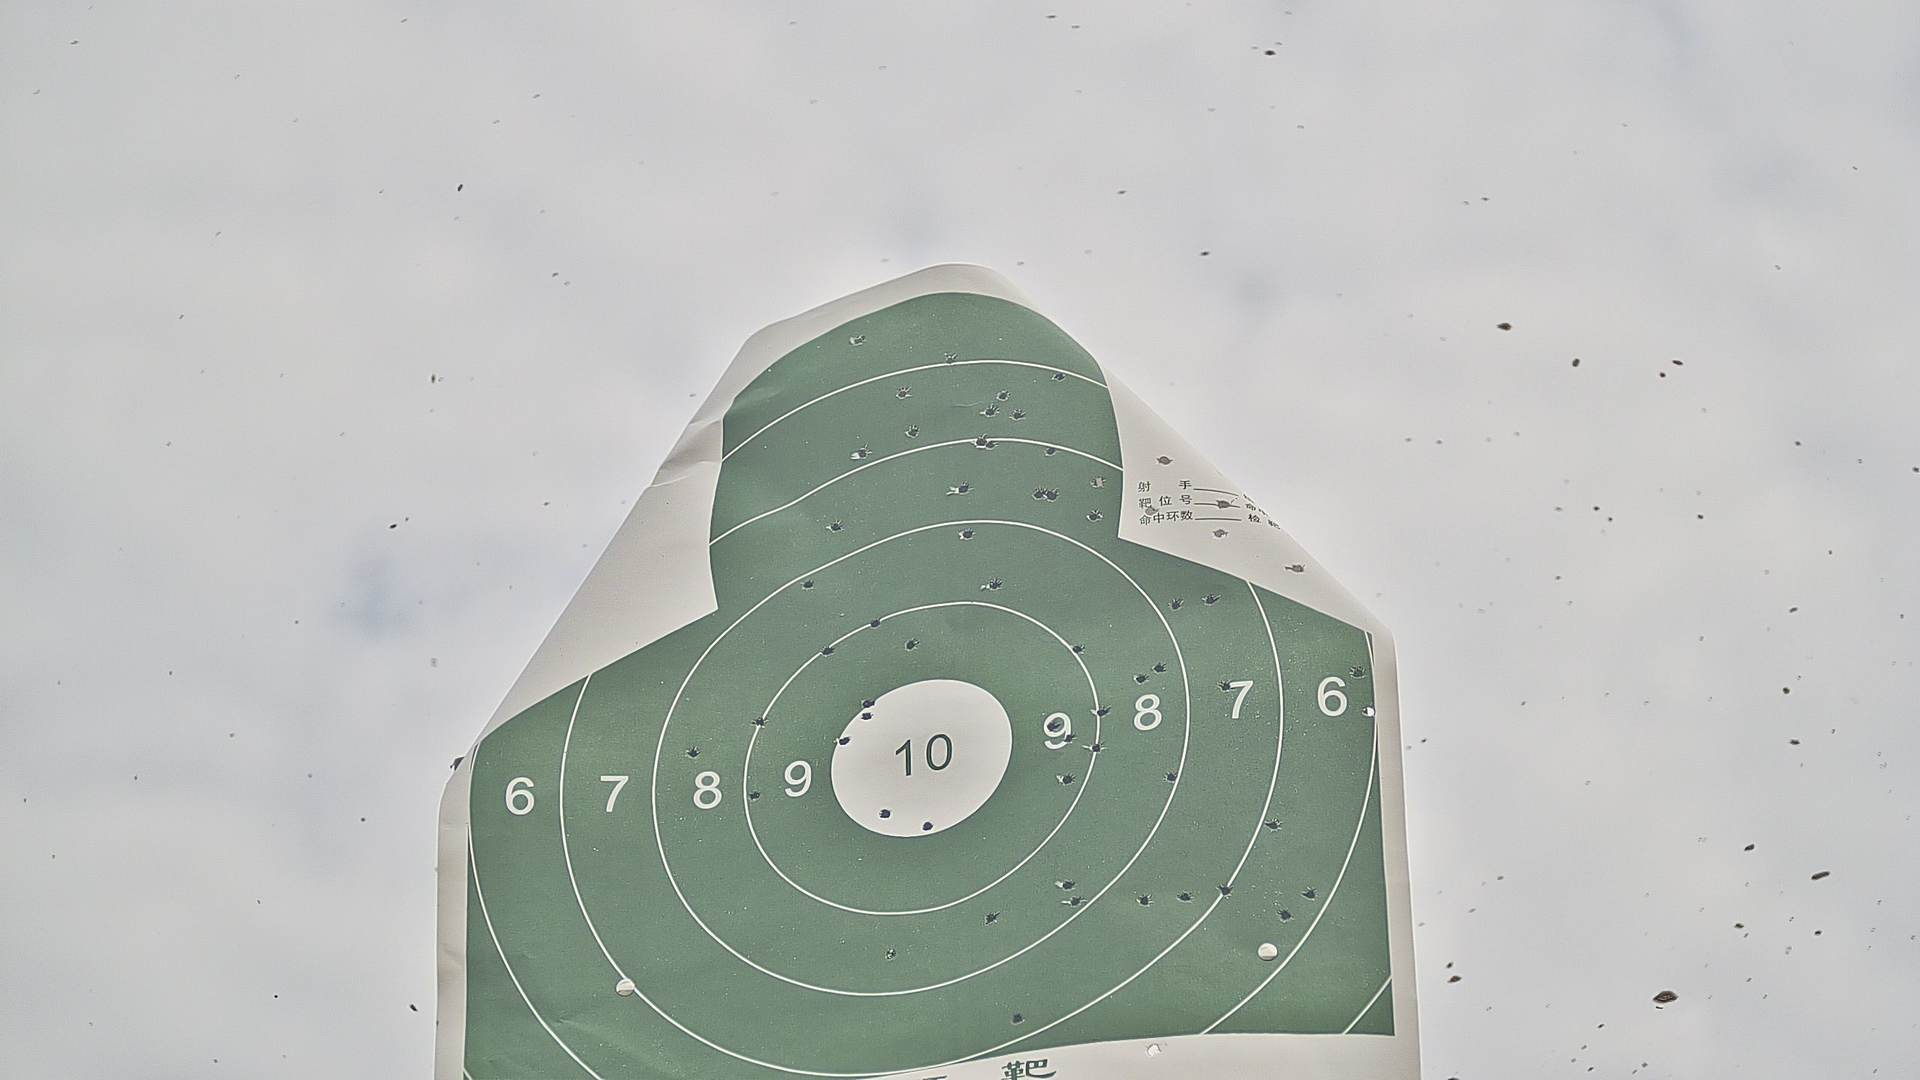hole: (1146, 1042, 1162, 1058), (1137, 891, 1151, 909), (1215, 498, 1233, 512), (1284, 564, 1307, 575), (1164, 770, 1179, 785), (1156, 456, 1175, 467), (957, 480, 971, 495), (1212, 527, 1228, 539), (895, 386, 909, 400), (829, 520, 843, 533), (905, 638, 918, 651), (909, 425, 920, 439), (1280, 907, 1292, 922), (1046, 488, 1058, 501), (1352, 666, 1365, 678), (1220, 884, 1232, 897), (1095, 705, 1108, 717), (1062, 771, 1073, 785), (820, 644, 833, 655), (837, 735, 851, 746), (922, 819, 935, 831), (975, 434, 985, 448), (985, 910, 996, 924), (855, 447, 870, 456), (1145, 506, 1160, 516), (984, 404, 996, 415), (1269, 818, 1280, 829), (1069, 894, 1081, 906), (1052, 371, 1065, 381), (1089, 509, 1100, 522), (1364, 703, 1374, 716), (1011, 1011, 1022, 1025), (878, 808, 891, 819), (684, 746, 698, 757), (988, 579, 1000, 589), (1170, 599, 1182, 609), (1205, 593, 1217, 604), (1179, 891, 1191, 902), (757, 715, 767, 727), (1071, 644, 1084, 653), (1091, 742, 1104, 752), (1060, 878, 1073, 887), (1093, 476, 1104, 487), (1221, 680, 1232, 691), (1047, 720, 1058, 731), (803, 579, 814, 589), (1011, 410, 1023, 419), (986, 439, 996, 451), (1033, 487, 1042, 498), (1154, 663, 1166, 673), (945, 352, 955, 363), (1305, 887, 1316, 897), (1135, 673, 1145, 683), (750, 791, 761, 800), (862, 698, 874, 705), (1044, 446, 1054, 455), (963, 527, 972, 537), (872, 618, 881, 628), (886, 949, 895, 959), (858, 334, 869, 342), (997, 392, 1007, 400), (861, 711, 872, 719), (851, 334, 858, 343), (1065, 732, 1073, 741)
kernel: (916, 752, 919, 754)
target: (462, 290, 1395, 1080)
ten: (829, 676, 1010, 837)
